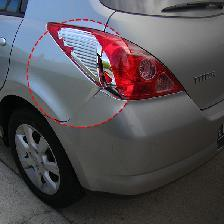broken_part: (55, 25, 134, 101)
